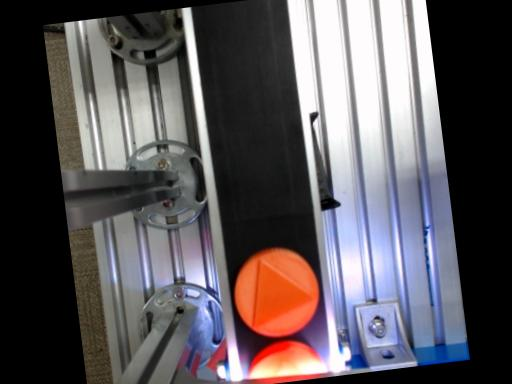Orange_Waper: (234, 247, 318, 337), (247, 340, 326, 378)
